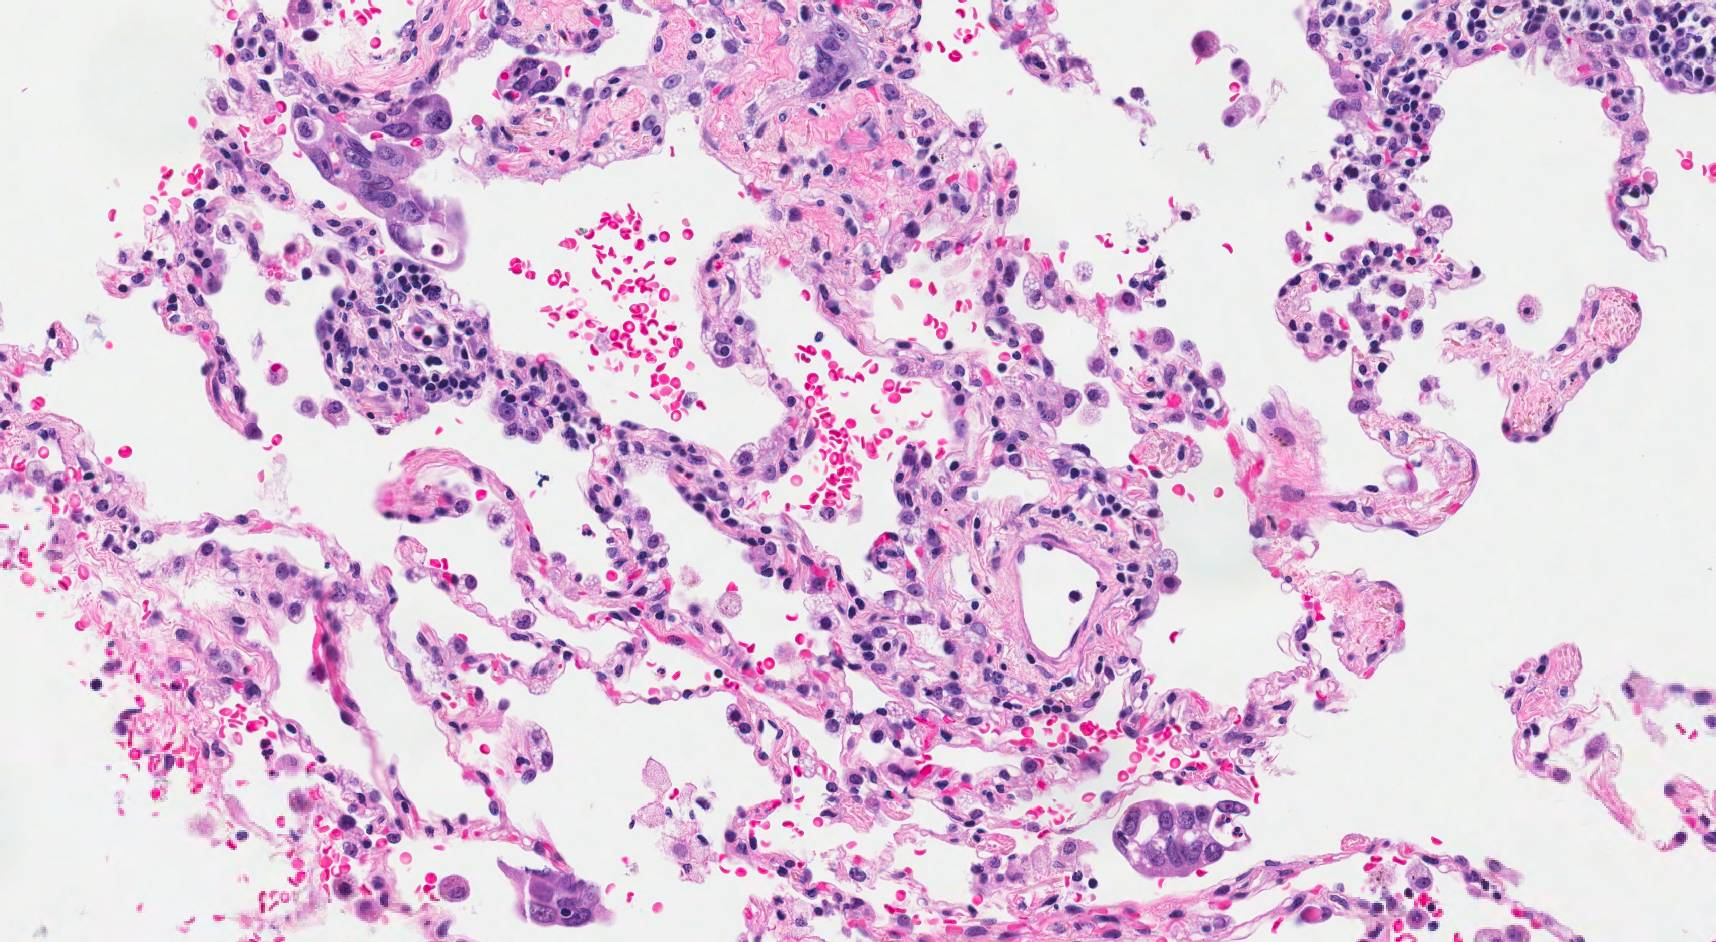stas: (291, 104, 466, 272), (1112, 799, 1256, 874), (500, 859, 617, 928), (491, 54, 564, 103)
